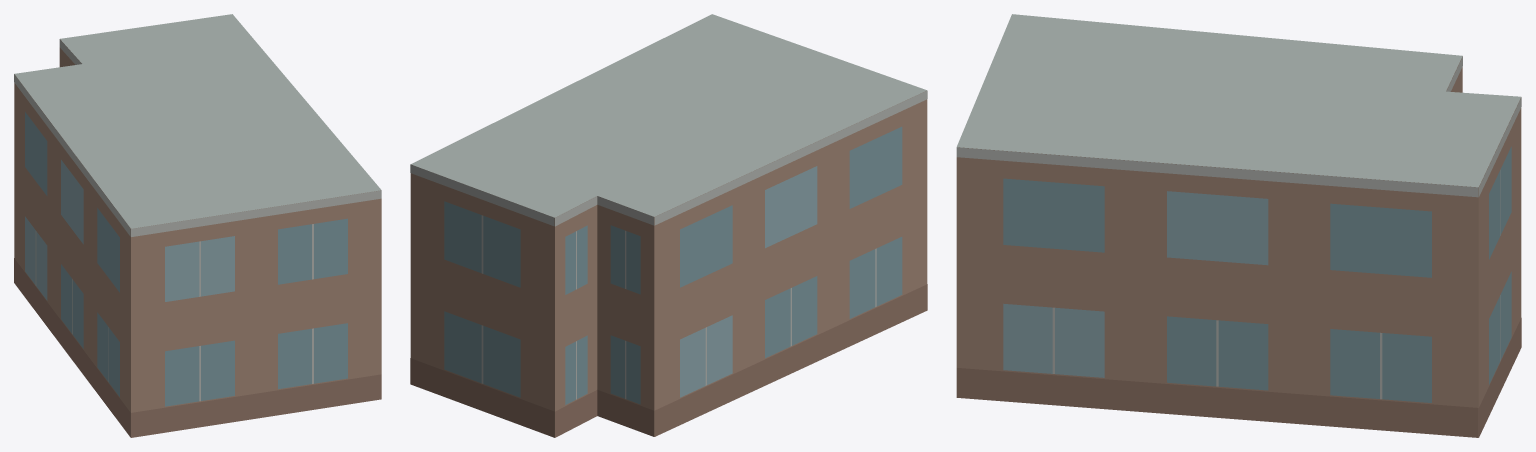
File: survey-upis-32617466.glb
3 views of the same model, side by side, from view 1: azimuth 30°, elevation 25°; view 2: azimuth 150°, elevation 25°; view 3: azimuth 270°, elevation 25° (orthographic). The views are drawn at different scales.
Parts seen in each view (by area): view 1: survey-upis-32617466.tmp; view 2: survey-upis-32617466.tmp; view 3: survey-upis-32617466.tmp.
Part boxes in pixels (x1,y1,x2,y2): survey-upis-32617466.tmp: [14, 14, 381, 437]; survey-upis-32617466.tmp: [410, 14, 927, 437]; survey-upis-32617466.tmp: [956, 14, 1521, 437].
Bounding box in the file's own units: 9.06 × 6.1 × 12.48.
